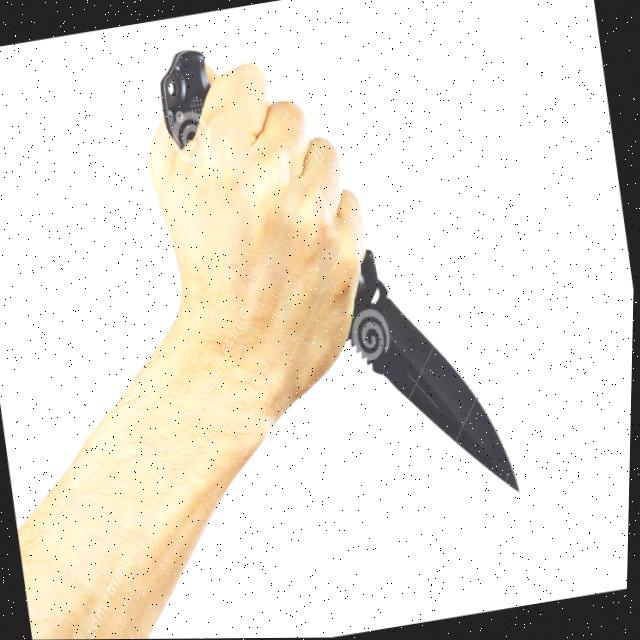knife: (338, 252, 557, 531)
